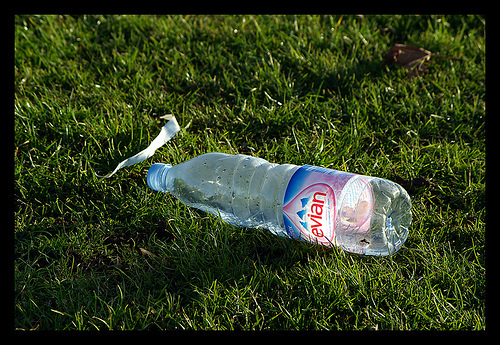litter: (144, 149, 413, 255), (110, 114, 179, 162)
